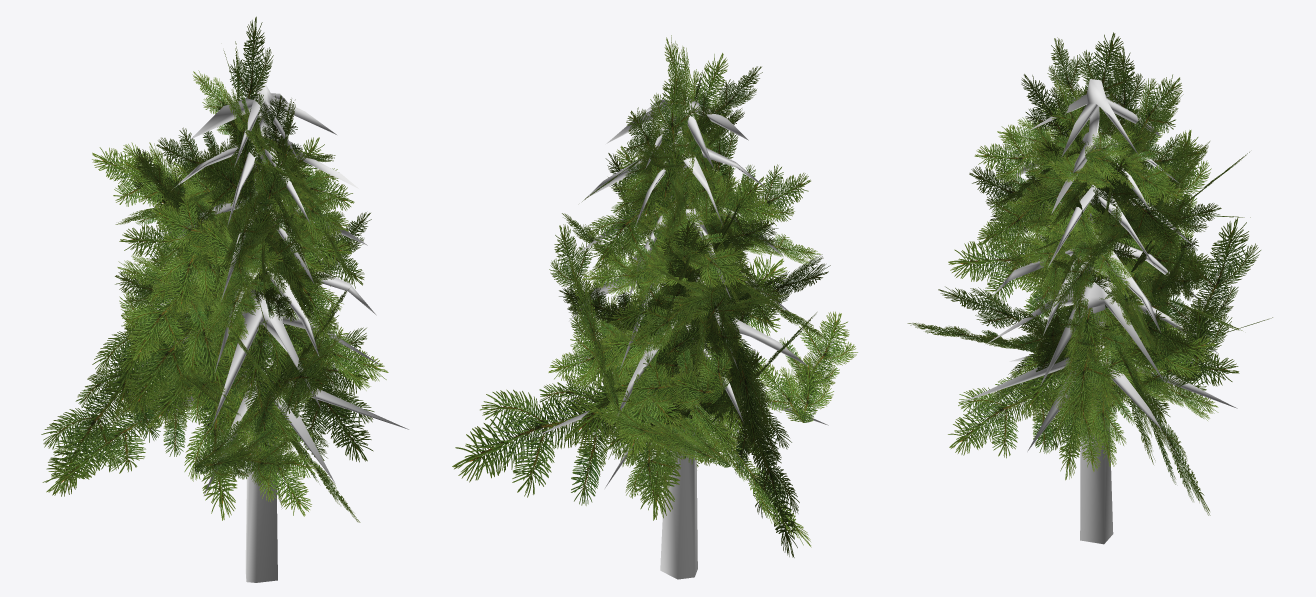
File: Tree3_LOD2.fbx
The picture shows the model from 3 angles, left to right: view 1: azimuth 30°, elevation 25°; view 2: azimuth 150°, elevation 25°; view 3: azimuth 270°, elevation 25°; orthographic projection. The views are drawn at different scales.
Visible parts, largest first — view 1: Tree_3_LOD2_Branches, Tree_3_LOD2_Trunk; view 2: Tree_3_LOD2_Branches, Tree_3_LOD2_Trunk; view 3: Tree_3_LOD2_Branches, Tree_3_LOD2_Trunk.
Boxes of the visible parts, x1,y1,x2,y2 form: Tree_3_LOD2_Branches: (41,16,388,522); Tree_3_LOD2_Trunk: (126,78,408,582); Tree_3_LOD2_Branches: (452,35,857,557); Tree_3_LOD2_Trunk: (537,83,828,579); Tree_3_LOD2_Branches: (907,32,1272,515); Tree_3_LOD2_Trunk: (962,79,1237,544).
Size of the model in its own units: 678 by 967 by 683.
2 materials, 1 textured.
